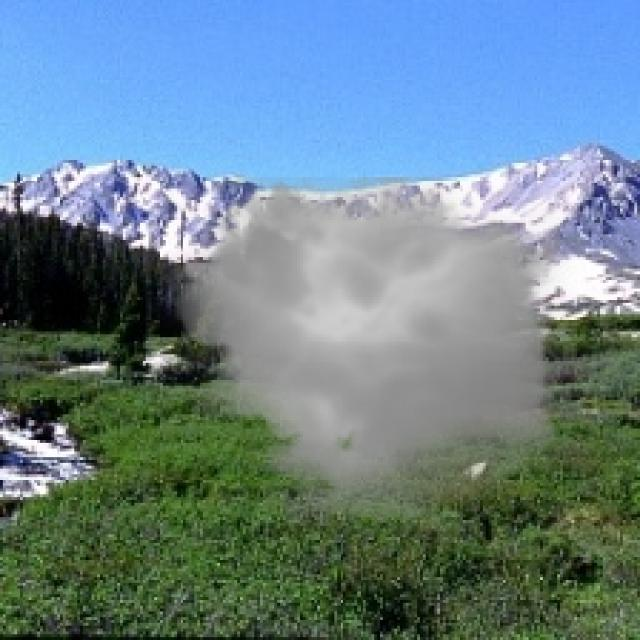smoke: (157, 160, 577, 531)
